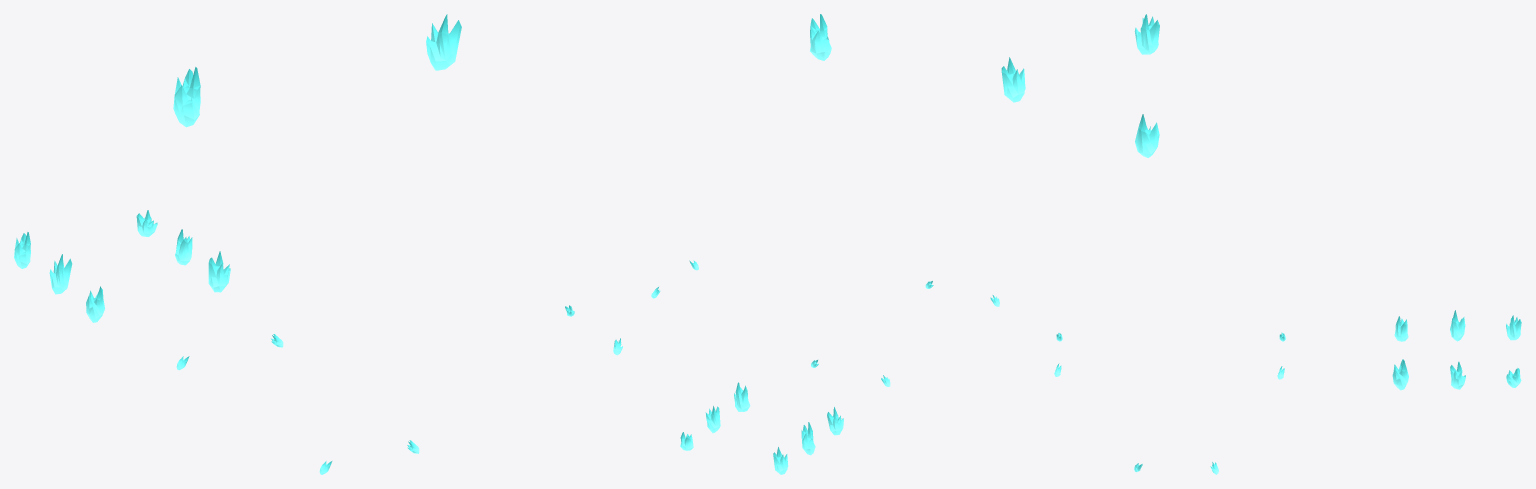
The model's file is Fire.gltf.
The picture shows the model from 3 angles, left to right: view 1: azimuth 30°, elevation 25°; view 2: azimuth 150°, elevation 25°; view 3: azimuth 270°, elevation 25°; orthographic projection. The views are drawn at different scales.
Parts seen in each view (by area): view 1: FireBig.013, FireBig.012, FireBig.005; view 2: FireBig.012, FireBig.013; view 3: FireBig.012, FireBig.013.
Boxes of the visible parts, x1,y1,x2,y2 form: FireBig.013: (426,14,461,70); FireBig.012: (173,67,200,127); FireBig.005: (208,251,230,292); FireBig.012: (1001,57,1025,102); FireBig.013: (810,14,831,60); FireBig.012: (1134,14,1159,54); FireBig.013: (1135,114,1159,157).
Bounding box in the file's own units: 12.67 × 10.67 × 14.81.
1 material, 1 textured.
